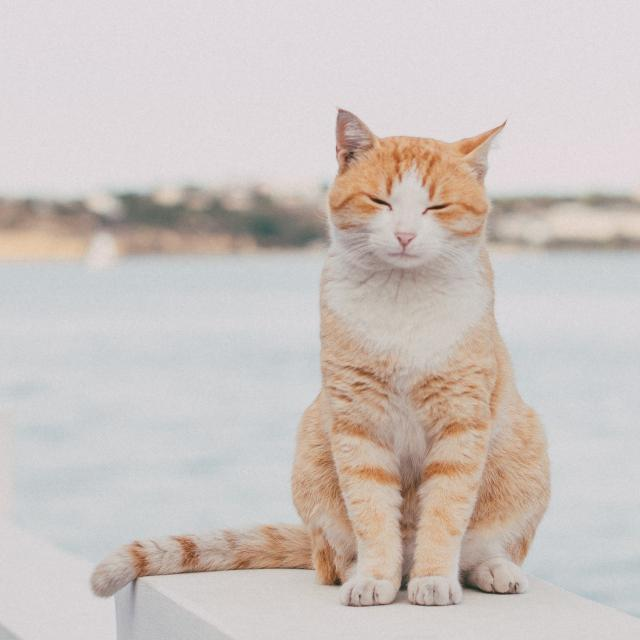cat: (88, 105, 555, 614)
